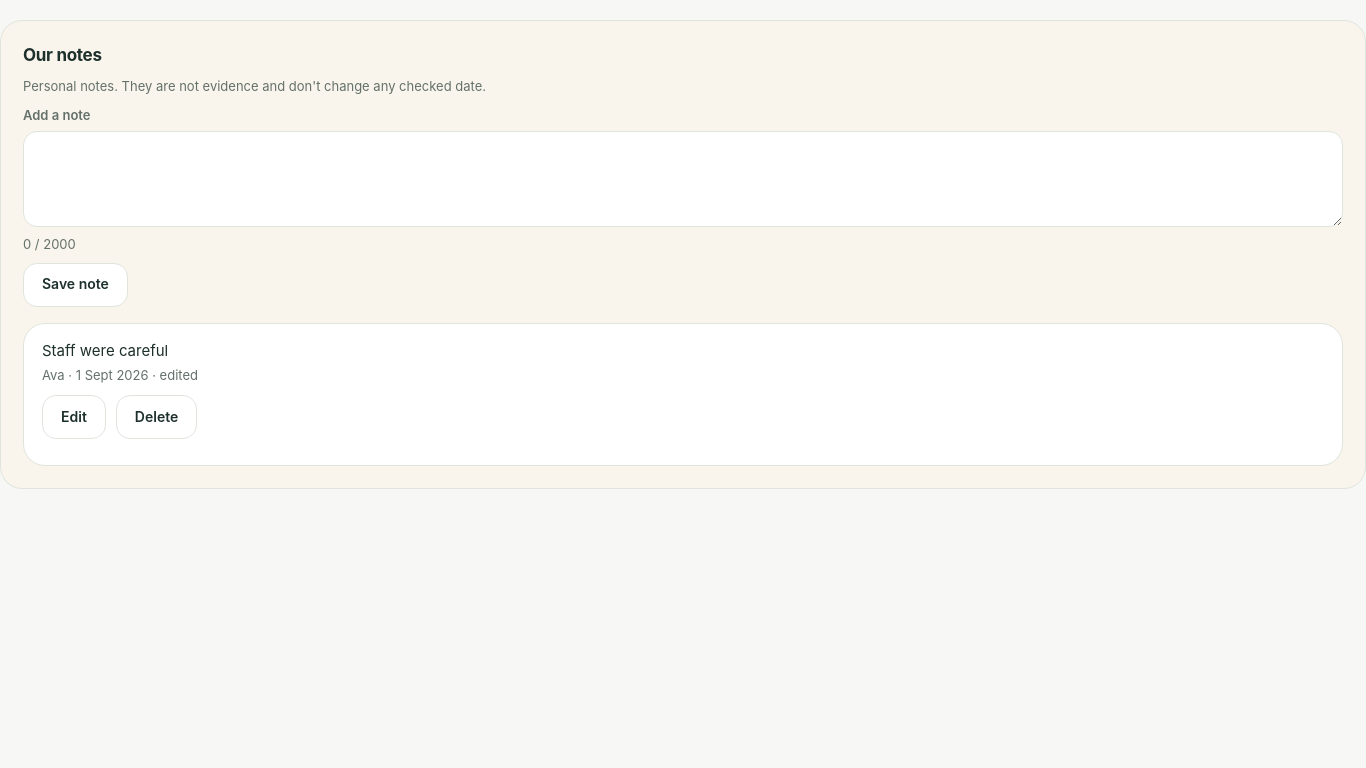
it: NotesSection › edits with the version the member started from
The image size is (1366, 768).
Click the button with test id "note-edit-a" at [74, 417], box [42,395,106,439]
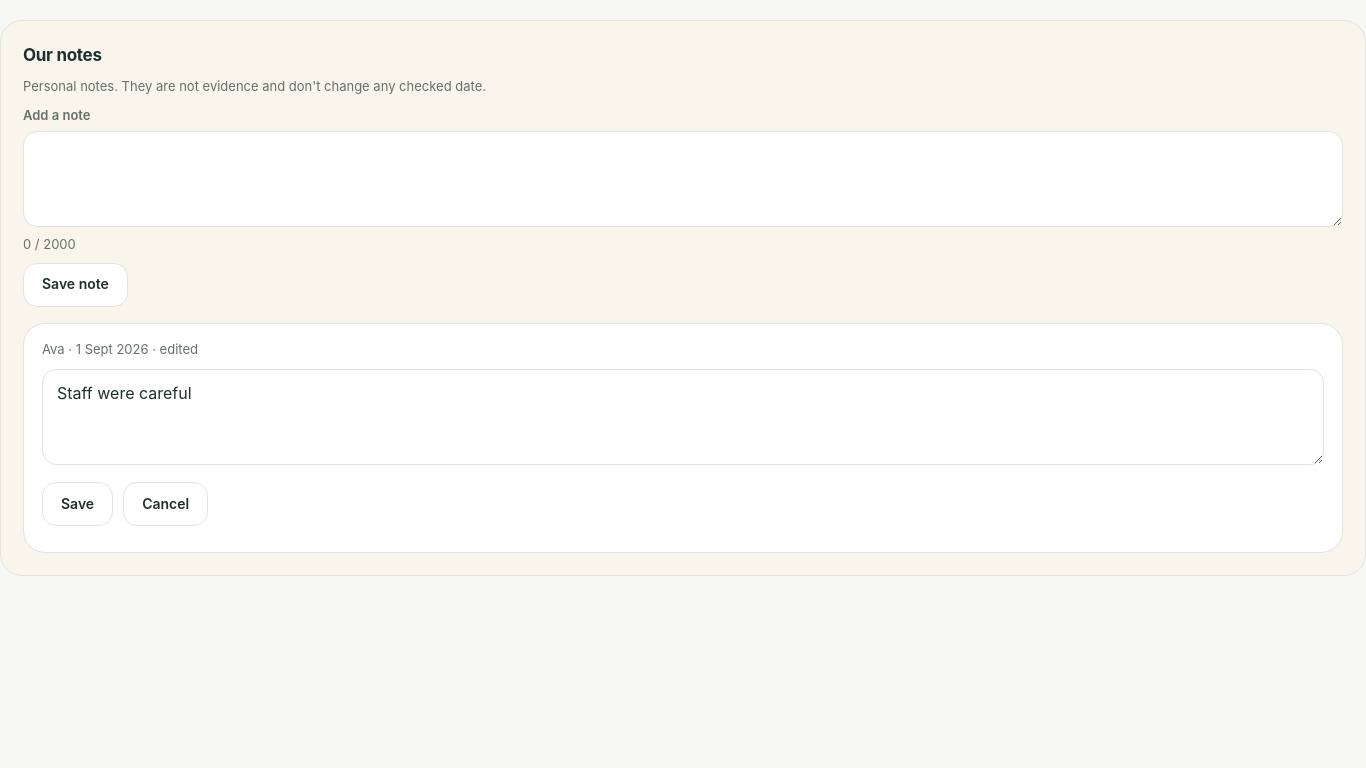
Replace the text in the text box with test id "note-edit-text-a" with "Went back, still careful" at [683, 417], box [42,369,1324,465]
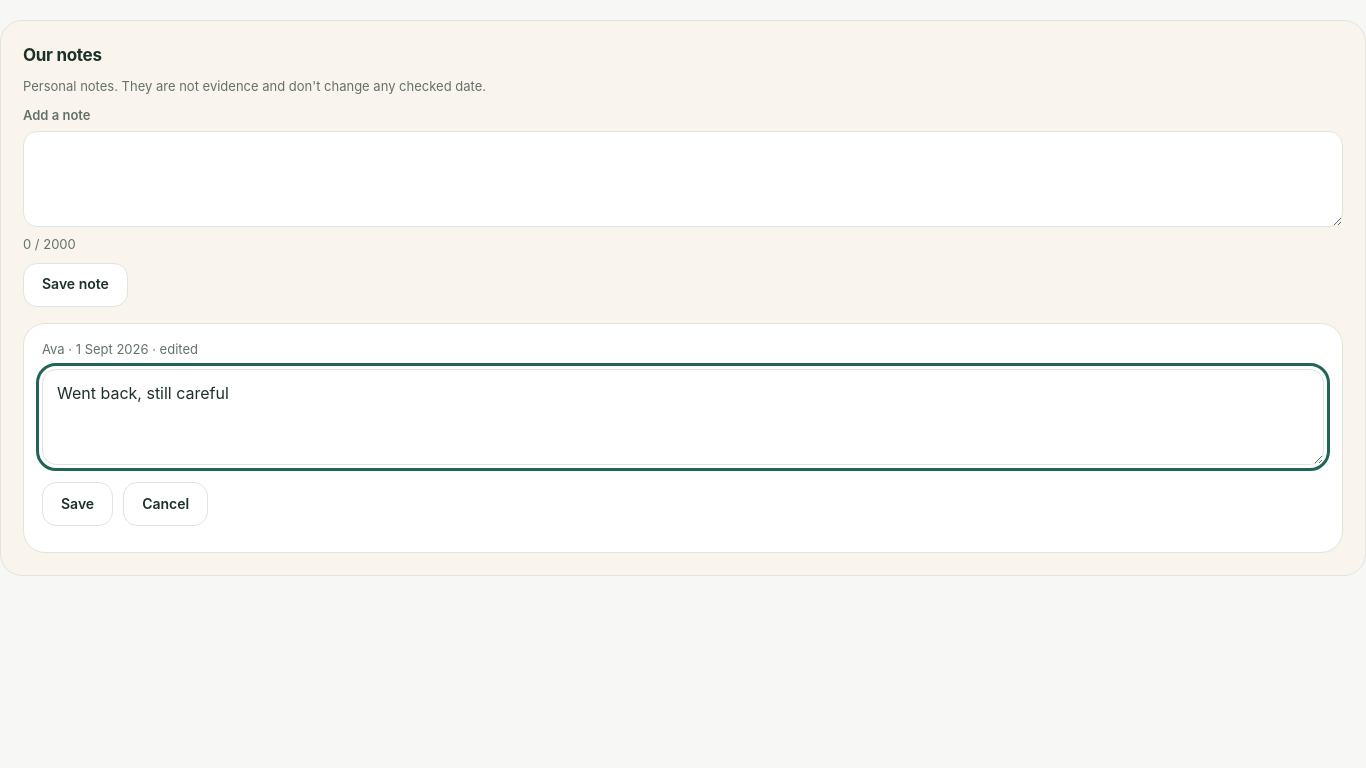
Click the button with test id "note-save-a" at [78, 504], box [42,482,113,526]
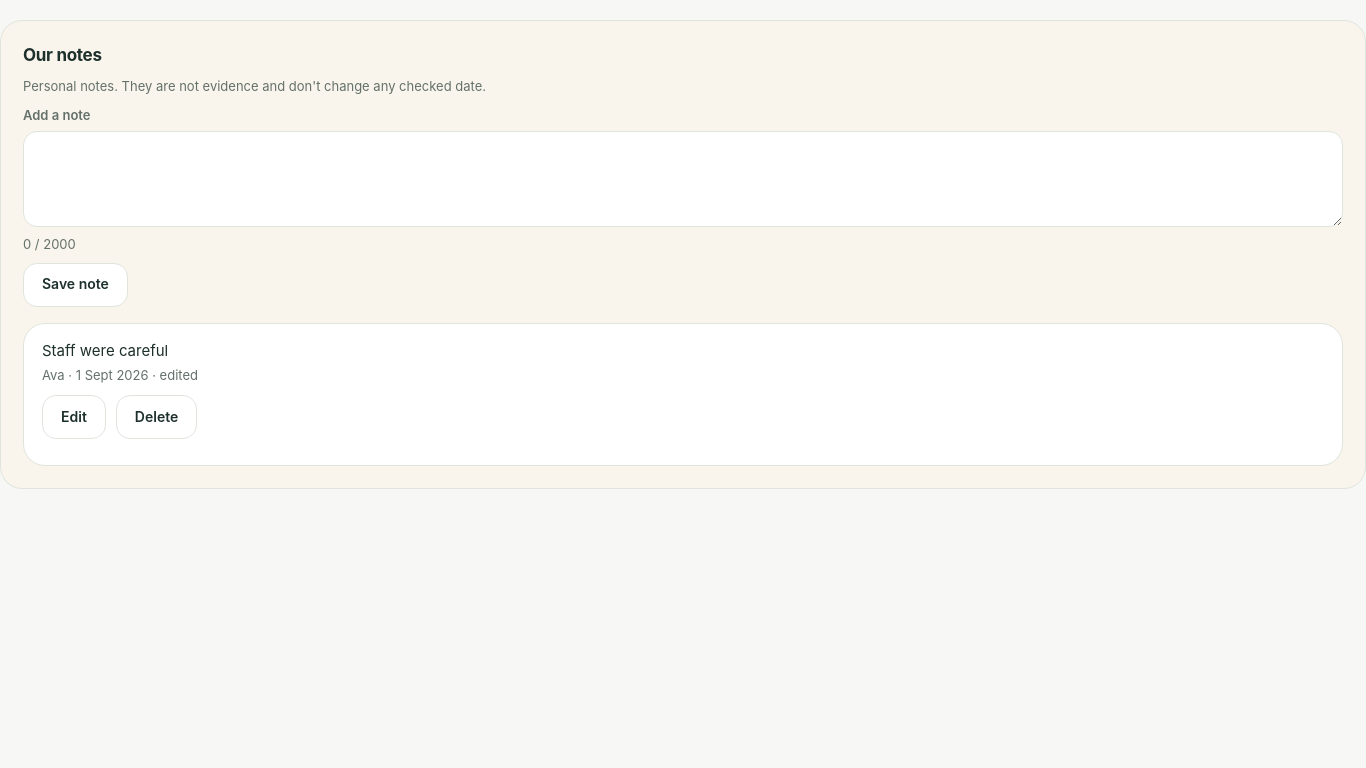
expect the text box with test id "note-edit-text-a" is gone: met
